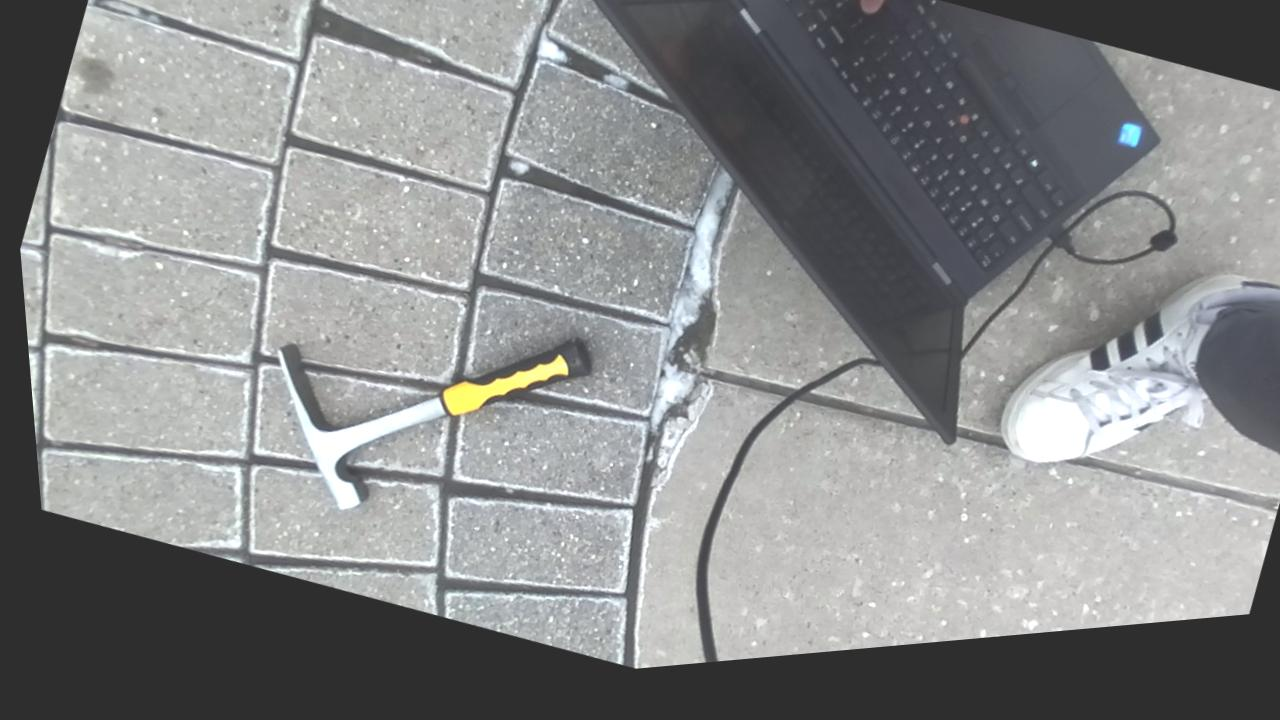pick: (279, 339, 590, 509)
